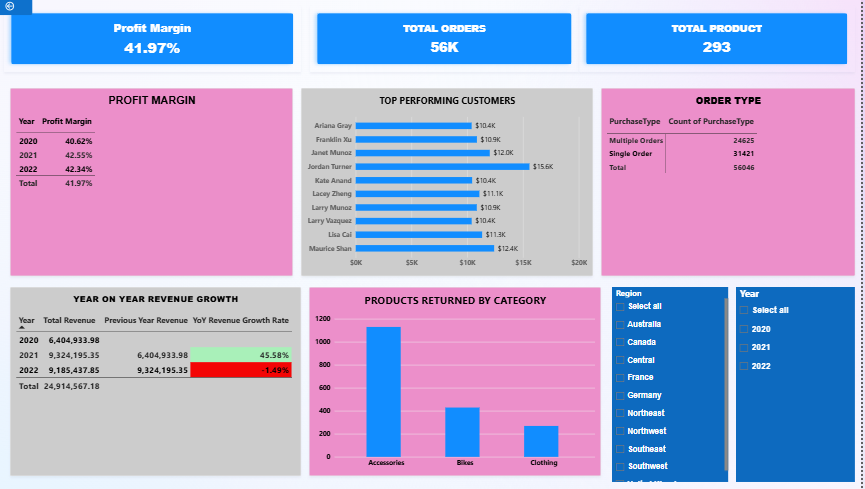

Layout of this report page (visuals, bound fields, positions):
{"tool":"powerbi","page":{"name":"Page 2","canvas":[1920,1080],"ordinal":1},"visuals":[{"type":"cardVisual","fields":{"Data":["Sales_2020-2022.Profit margin"]},"box":[37.3,19.8,652,144.9],"z":0},{"type":"tableEx","title":"PROFIT MARGIN ","fields":{"Values":["Calendar.Year","Sales_2020-2022.Profit Margin"]},"box":[50.5,199.8,621.2,412.7],"z":1000},{"type":"actionButton","box":[0,0,100,40],"z":2000},{"type":"cardVisual","fields":{"Data":["CountNonNull(Sales_2020-2022.OrderDateKey)"]},"box":[709,19.8,590.5,144.9],"z":3000},{"type":"cardVisual","fields":{"Data":["CountNonNull(Product.ProductKey)"]},"box":[1299.5,19.8,605.9,144.9],"z":4000},{"type":"clusteredBarChart","title":"TOP PERFORMING CUSTOMERS","fields":{"Category":["Customer.FullName","Calendar.Date.Variation.Date Hierarchy.Year"],"Y":["Sum(Sales_2020-2022.Revenue)"]},"box":[689.3,199.8,641,412.7],"z":5000},{"type":"slicer","fields":{"Values":["Calendar.Year"]},"box":[1644.1,636.6,261.2,428],"z":6000},{"type":"slicer","fields":{"Values":["Territory.Region"]},"box":[1372,636.6,254.6,428],"z":7000},{"type":"columnChart","title":"PRODUCTS RETURNED BY CATEGORY","fields":{"Category":["Product Category.CategoryName","Product Subcategories.SubcategoryName"],"Y":["Sum(Returns Data.ReturnQuantity)"]},"box":[706.8,636.6,641,414.9],"z":8000},{"type":"tableEx","title":"YEAR ON YEAR REVENUE GROWTH","fields":{"Values":["Calendar.Year","Sales_2020-2022.Total Revenue","Sales_2020-2022.Previous Year Revenue","Sales_2020-2022.YoY Revenue Growth Rate"]},"box":[50.5,636.6,638.8,414.9],"z":9000},{"type":"pivotTable","title":"ORDER TYPE","fields":{"Rows":["Sales_2020-2022.PurchaseType"],"Values":["CountNonNull(Sales_2020-2022.PurchaseType)"]},"box":[1347.8,199.8,557.6,412.7],"z":10000}]}

Visuals, with their boxes in screenshot pixels (x1, y1, x2, y2), scaled from the page's 1920x1080 canvas onto the 865x489 screenshot:
cardVisual - Sales_2020-2022.Profit margin: region(17, 9, 311, 75)
"PROFIT MARGIN " tableEx: region(23, 90, 303, 277)
actionButton: region(0, 0, 45, 18)
cardVisual - CountNonNull(Sales_2020-2022.OrderDateKey): region(319, 9, 585, 75)
cardVisual - CountNonNull(Product.ProductKey): region(585, 9, 858, 75)
"TOP PERFORMING CUSTOMERS" clusteredBarChart: region(311, 90, 599, 277)
slicer - Calendar.Year: region(741, 288, 858, 482)
slicer - Territory.Region: region(618, 288, 733, 482)
"PRODUCTS RETURNED BY CATEGORY" columnChart: region(318, 288, 607, 476)
"YEAR ON YEAR REVENUE GROWTH" tableEx: region(23, 288, 311, 476)
"ORDER TYPE" pivotTable: region(607, 90, 858, 277)
